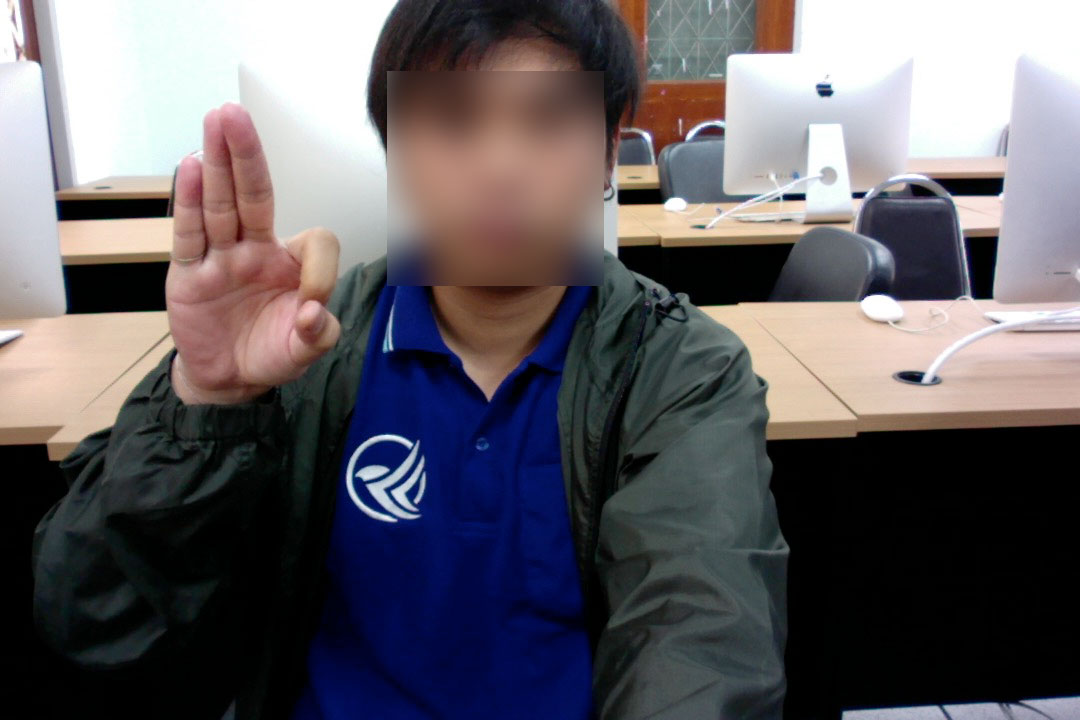for: (139, 83, 352, 427)
